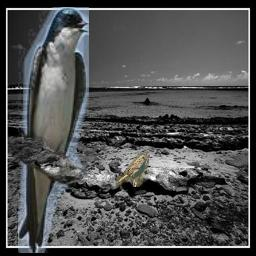Sparrow: (116, 154, 149, 187)
Swallow: (18, 7, 89, 253)
